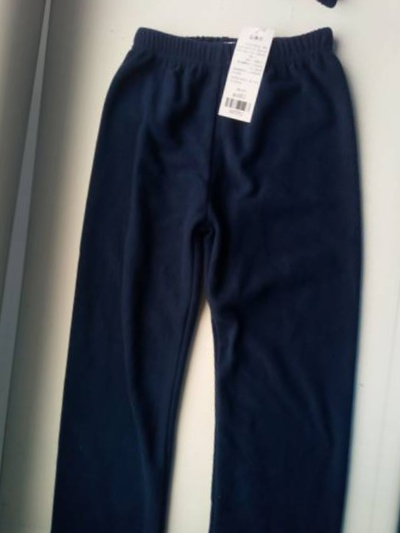Pants: (24, 0, 400, 533), (379, 40, 400, 533), (92, 0, 400, 20), (0, 0, 9, 515), (0, 527, 352, 533)
